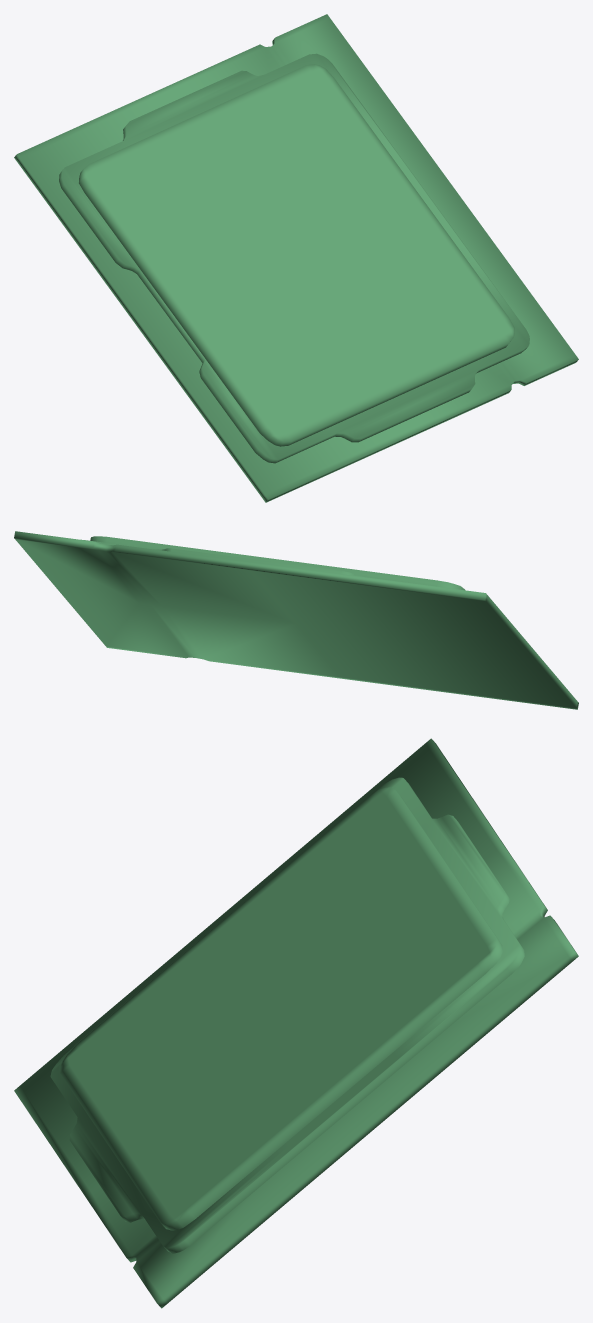
File: processor.glb
The picture shows the model from 3 angles, top to bottom: view 1: azimuth 30°, elevation 25°; view 2: azimuth 150°, elevation 25°; view 3: azimuth 270°, elevation 25°; orthographic projection. The views are drawn at different scales.
Visible parts, largest first — view 1: CPU; view 2: CPU; view 3: CPU.
Part boxes in pixels (x1=…): CPU: x1=14, y1=14, x2=578, y2=502; CPU: x1=14, y1=531, x2=578, y2=709; CPU: x1=14, y1=738, x2=578, y2=1308.
Bounding box in the file's own units: 1.63 × 0.8807 × 1.42.
